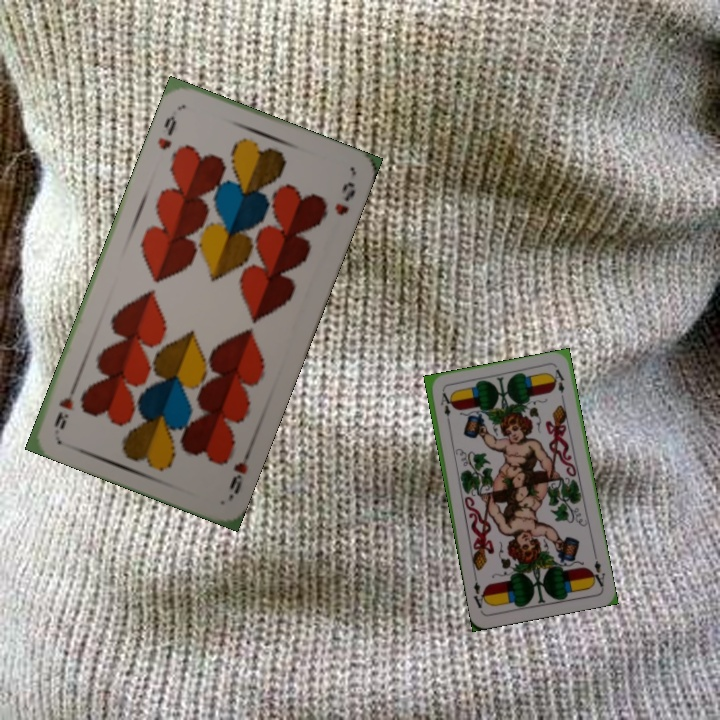EA: (587, 550, 608, 590), (436, 388, 453, 427)
H9: (225, 444, 254, 501), (153, 111, 179, 153)
